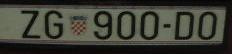-: (162, 22, 173, 29)
0: (140, 10, 159, 40), (198, 11, 217, 39), (118, 11, 136, 40)
9: (94, 11, 112, 40)
D: (175, 11, 194, 41)
G: (45, 10, 64, 37)
Z: (19, 11, 41, 39)
